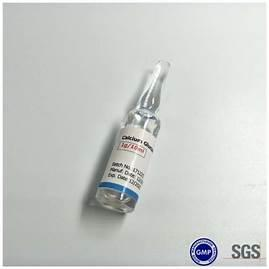Syringe: (91, 50, 172, 216)
